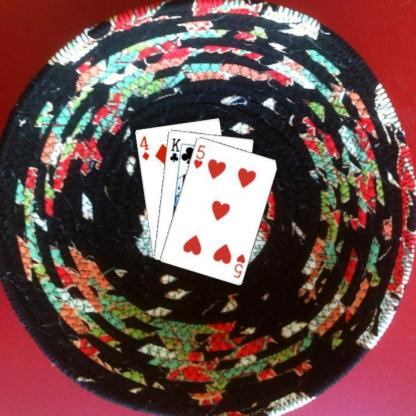4D: (137, 134, 150, 161)
5H: (191, 141, 207, 170), (231, 251, 246, 279)
KC: (167, 136, 184, 166)
